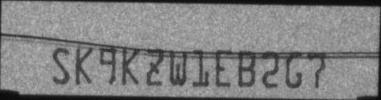1: (192, 49, 210, 86)
2: (261, 50, 280, 89)
7: (307, 50, 326, 90)
9: (99, 46, 116, 85)
B: (237, 50, 255, 87)
E: (215, 49, 232, 86)
G: (284, 51, 302, 89)
K: (121, 47, 139, 84), (75, 45, 92, 84)
S: (49, 45, 69, 84)
W: (169, 47, 187, 86)
Z: (144, 47, 164, 86)
